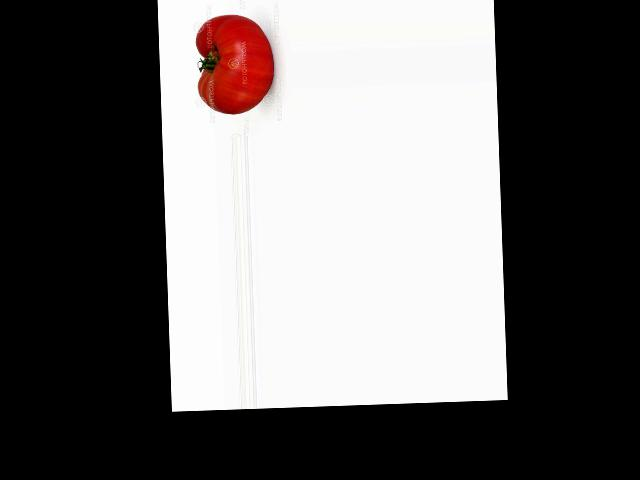tomato: (195, 14, 275, 115)
